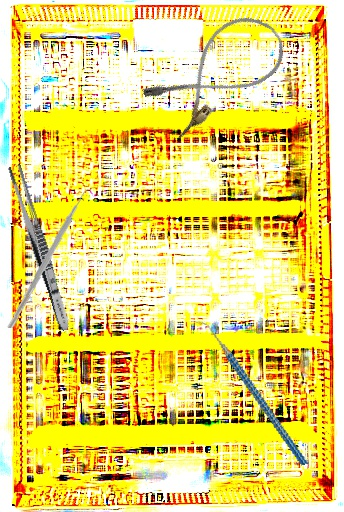Cannula: (138, 2, 296, 143)
Chopper: (191, 302, 309, 484), (0, 186, 108, 329)
Dressing Forceps: (4, 163, 75, 333)
